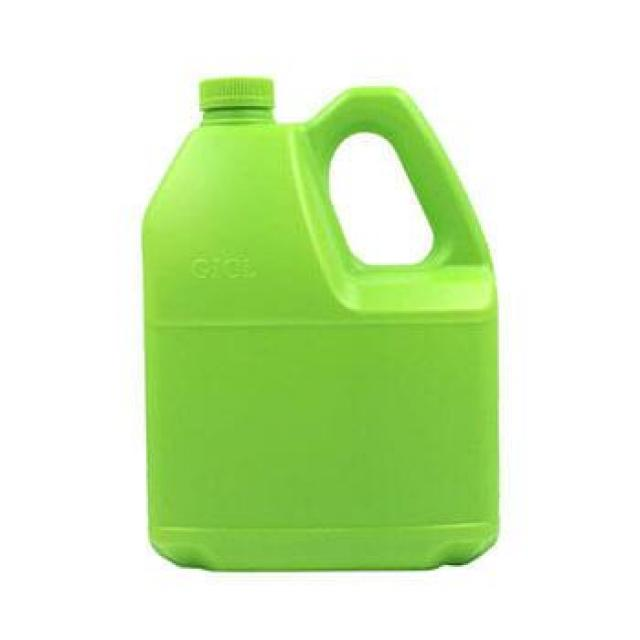plastic_bottle: (137, 74, 510, 577)
